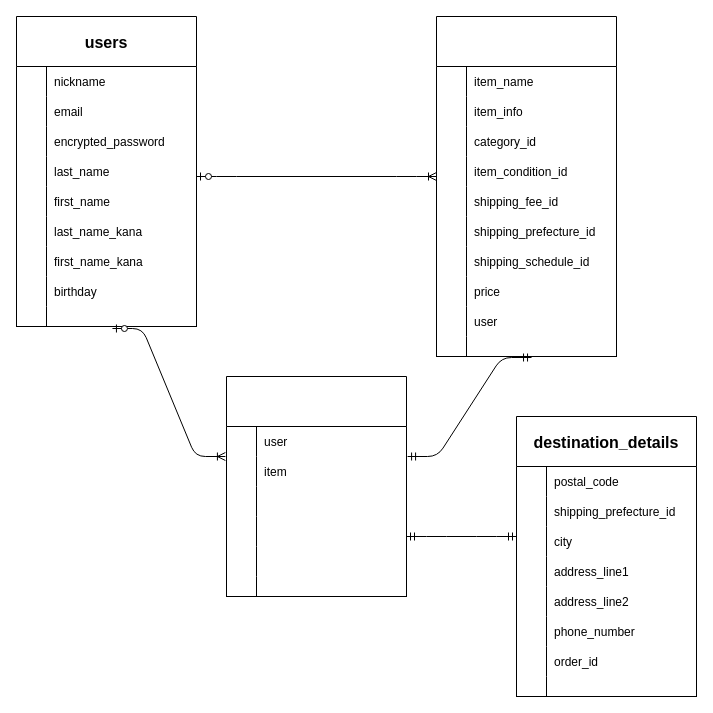
Image size: 713x713. Some labels were removed from this diagram. Here are the shapes that lost their labels. From the top down, the box of each, then its label:
(436, 16, 616, 356): items
(226, 376, 406, 596): orders
